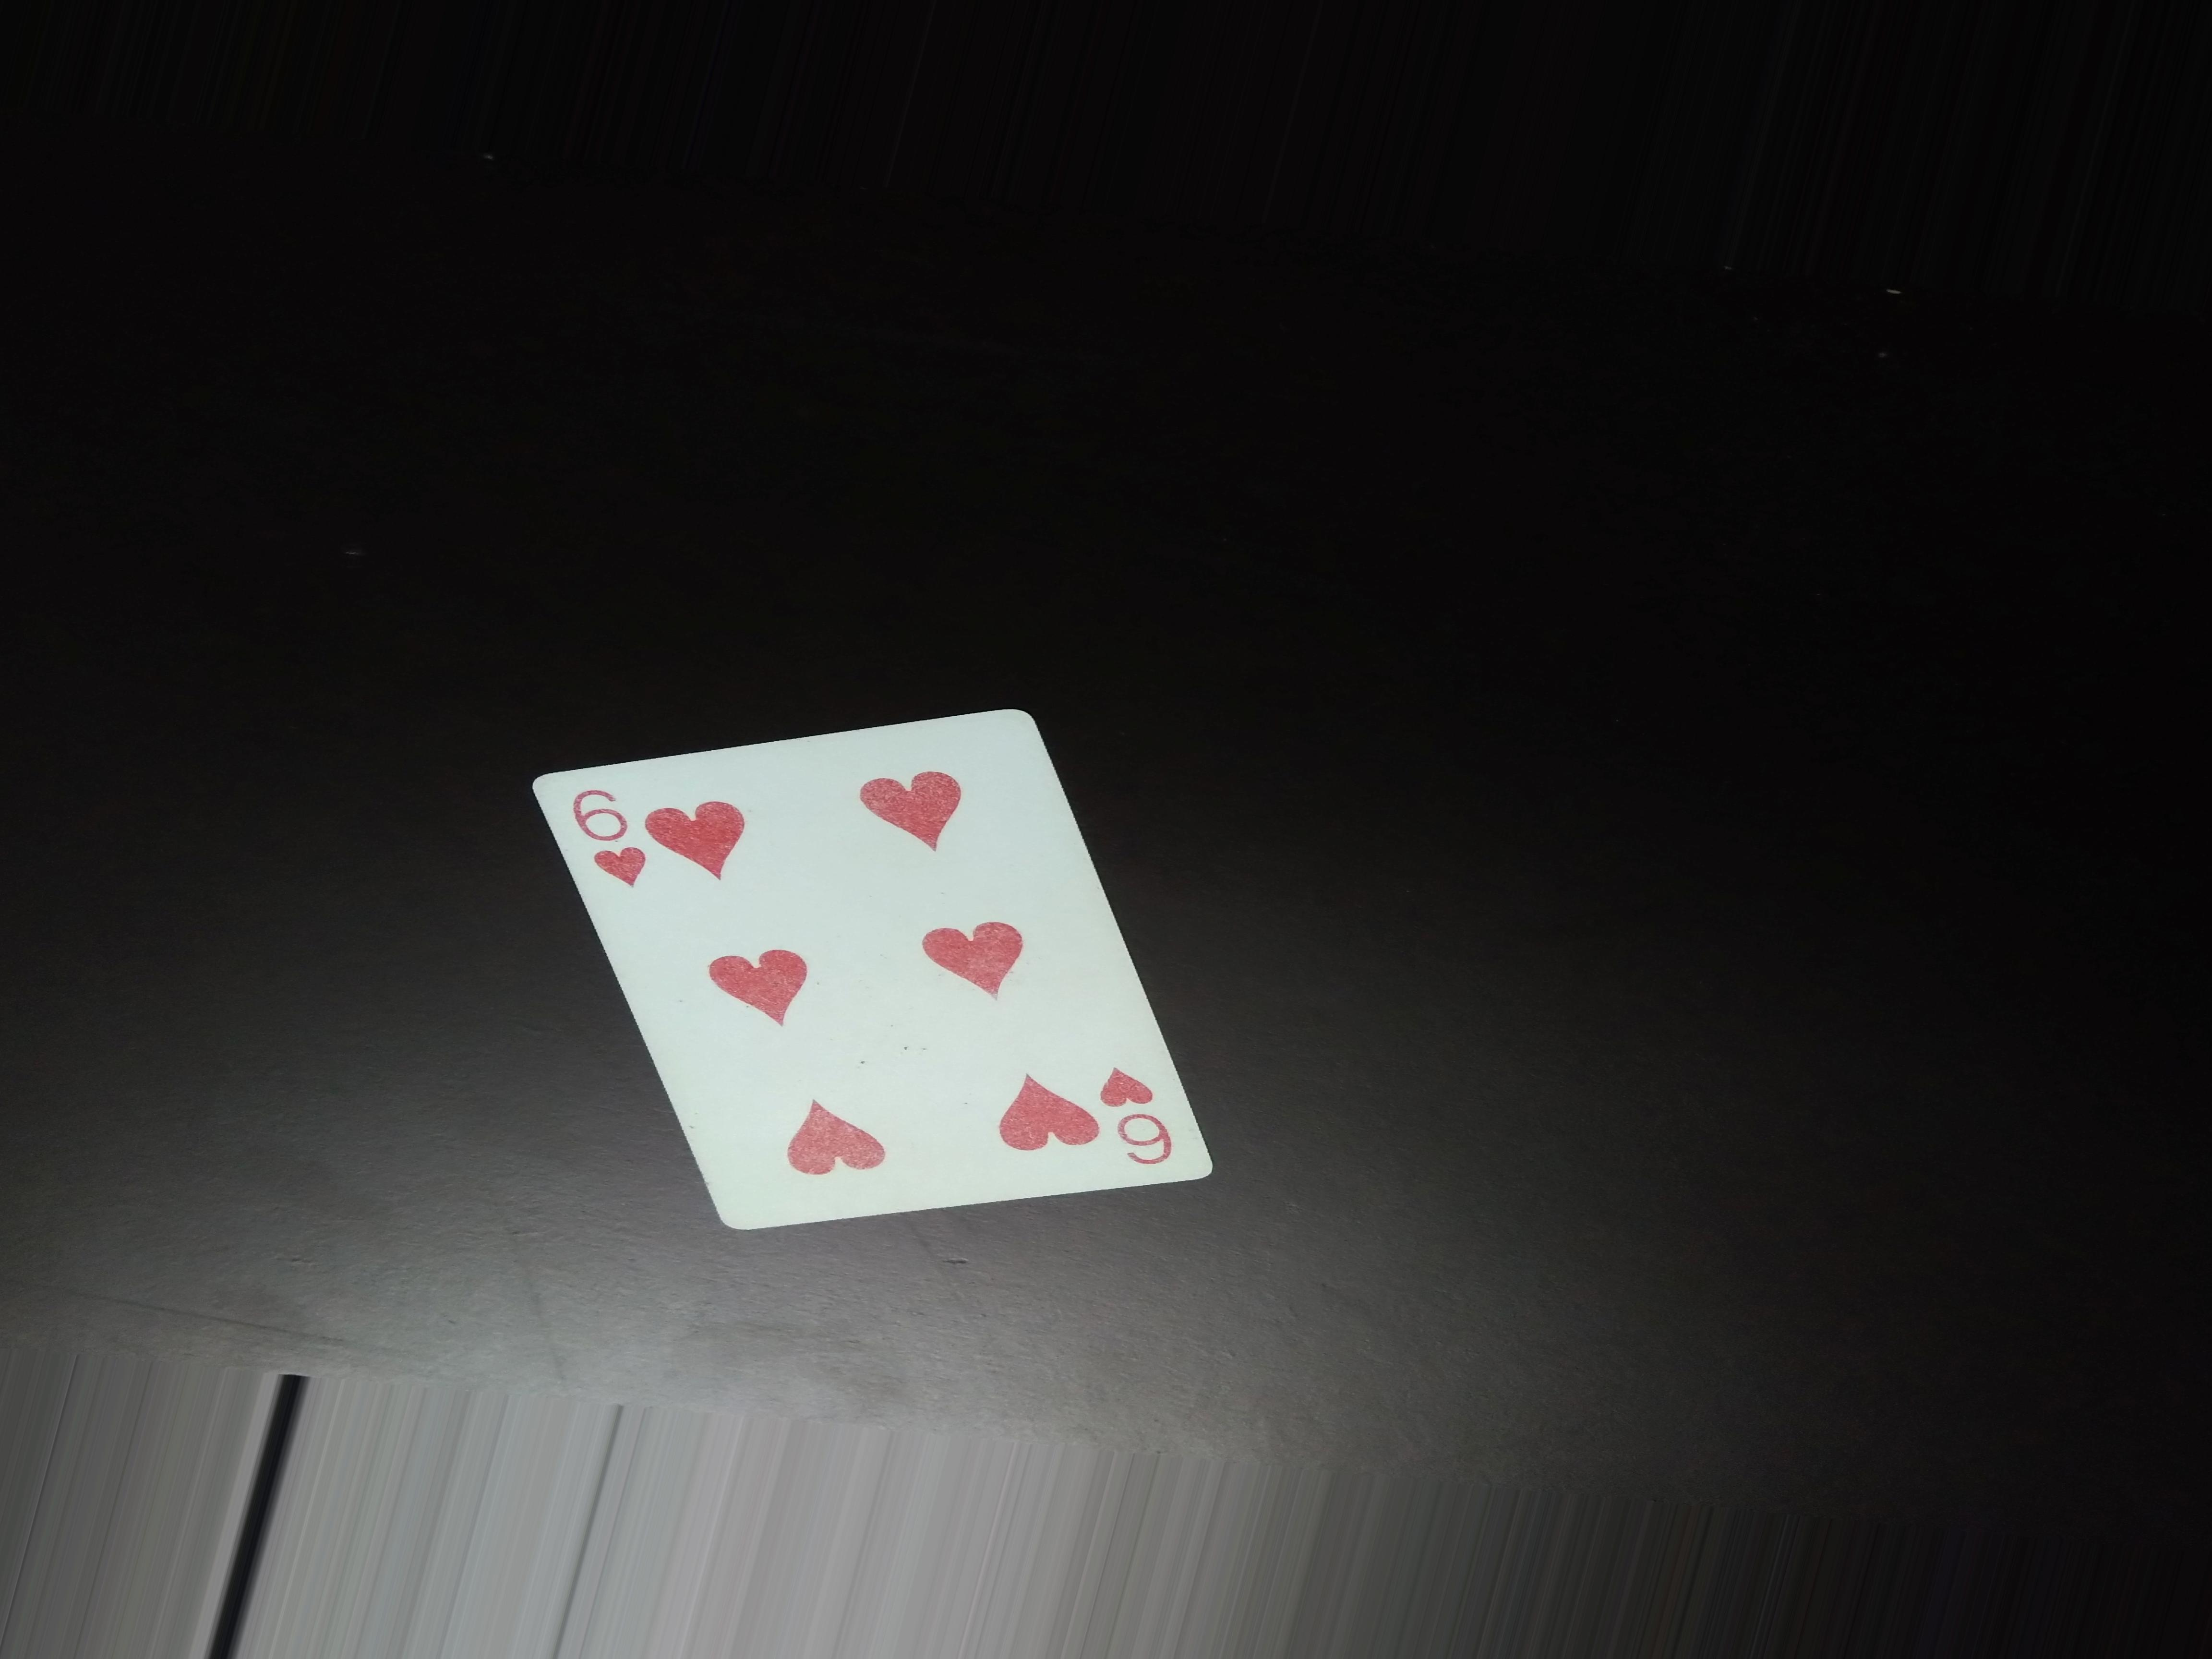6H: (1099, 1053, 1184, 1180)
